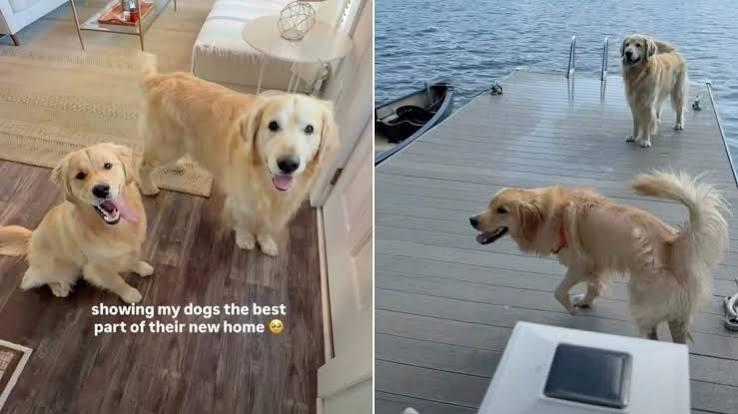adult_dog: (468, 168, 733, 347), (128, 43, 342, 256), (1, 141, 155, 304), (618, 34, 688, 151)
